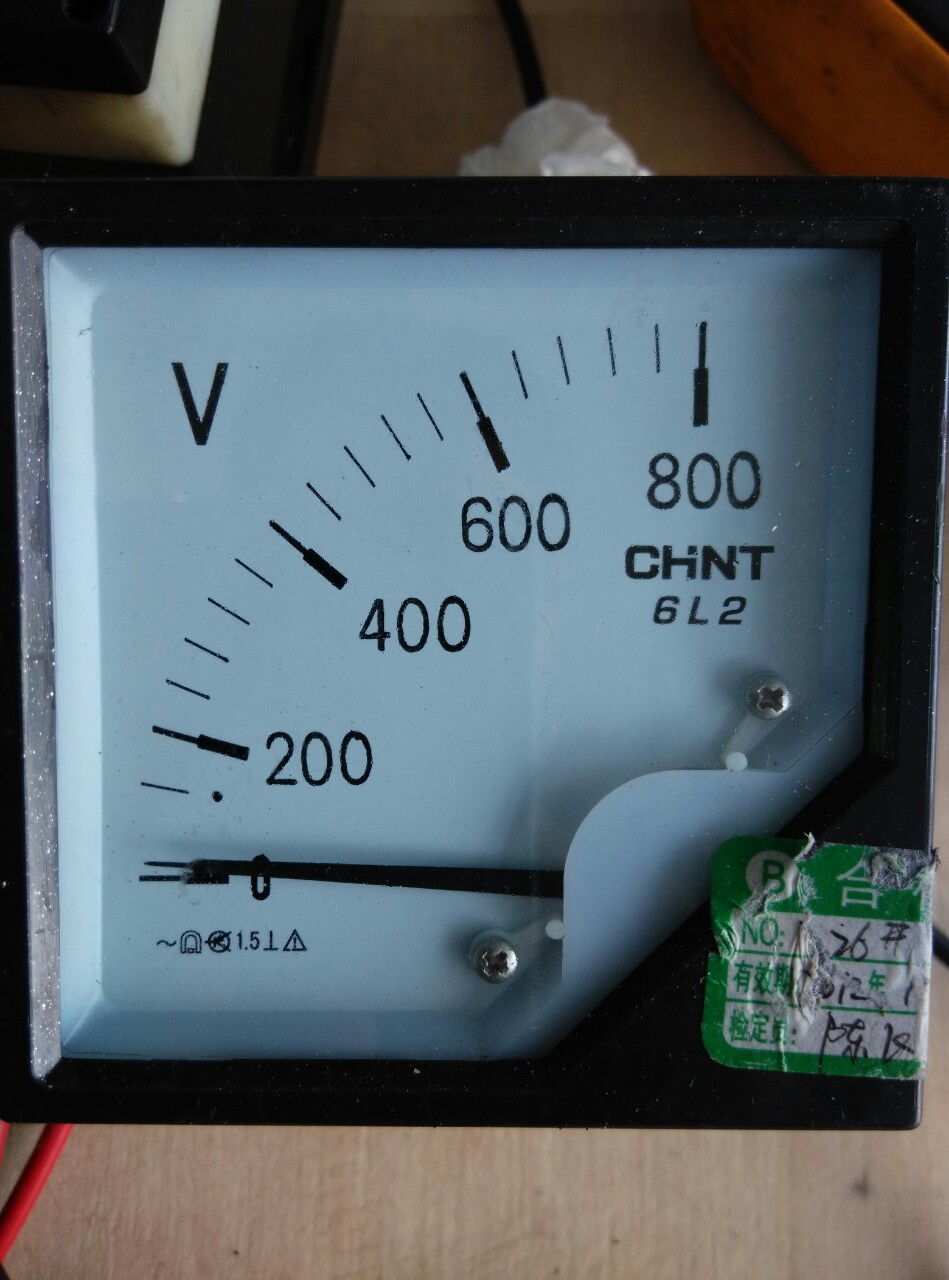pointer: (23, 222, 891, 1088)
